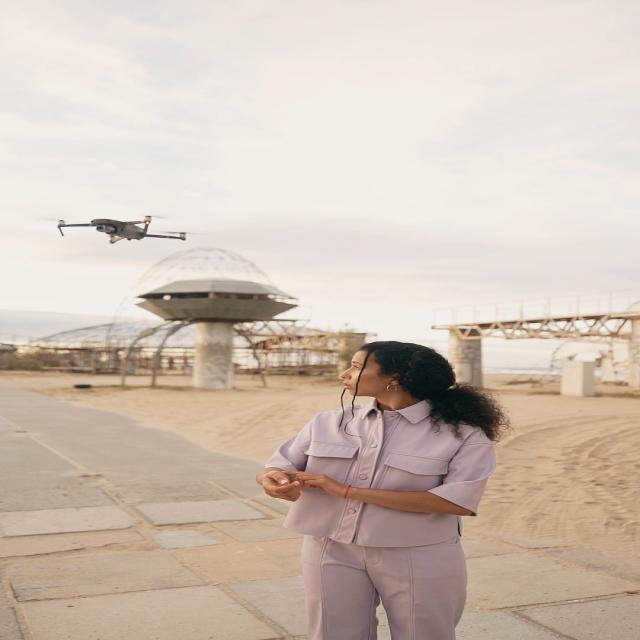Drone: (46, 208, 193, 250)
